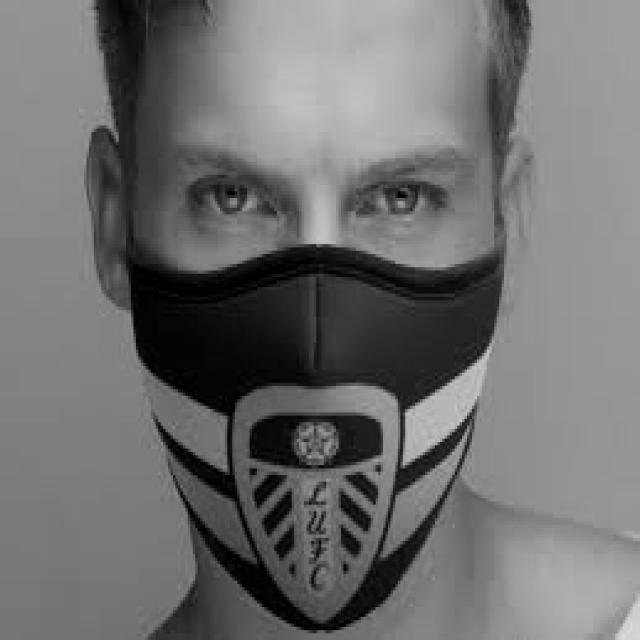fake: (124, 224, 507, 634)
real: (135, 0, 495, 640)
